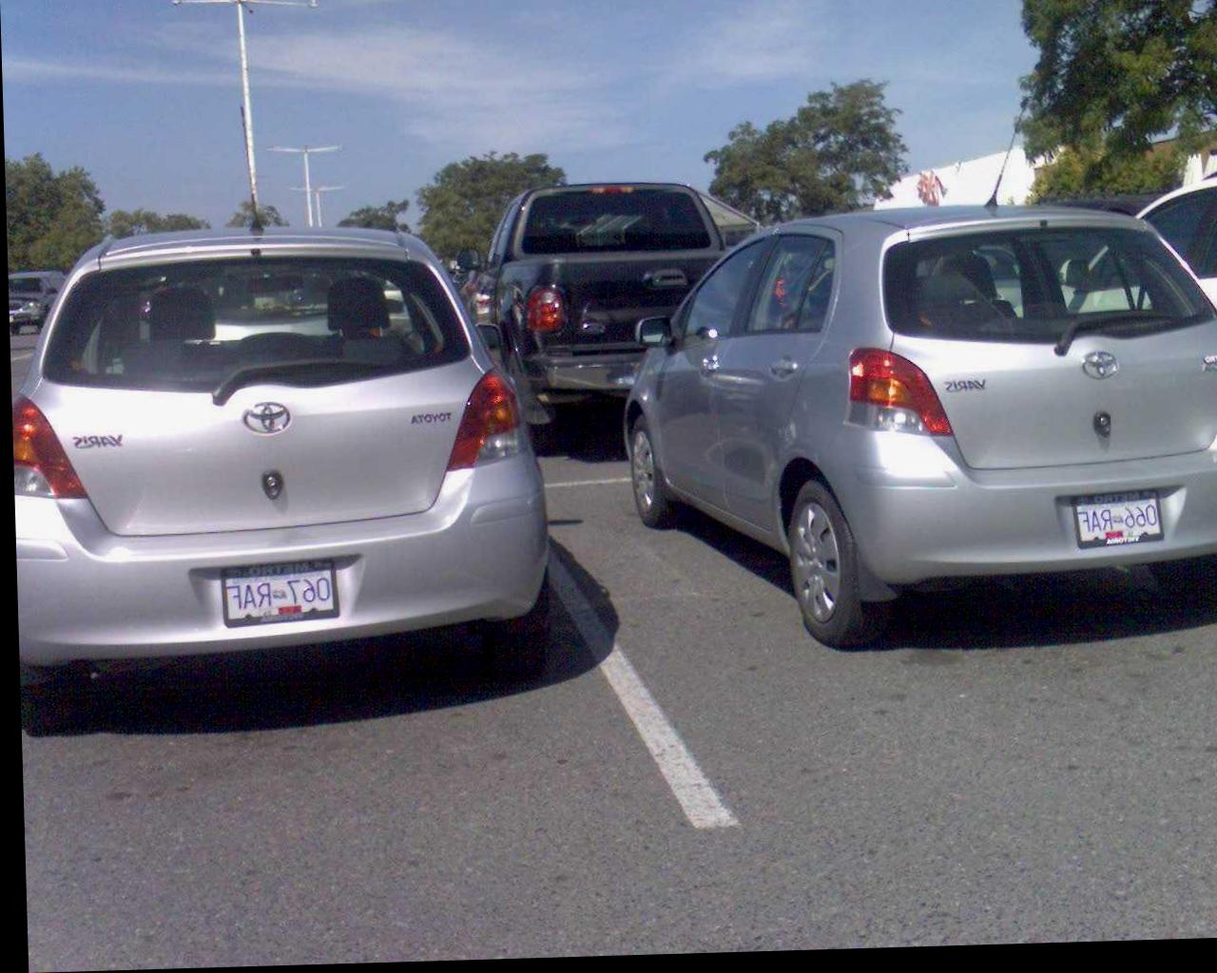License_Plate: (201, 545, 347, 646), (1055, 466, 1175, 566)
